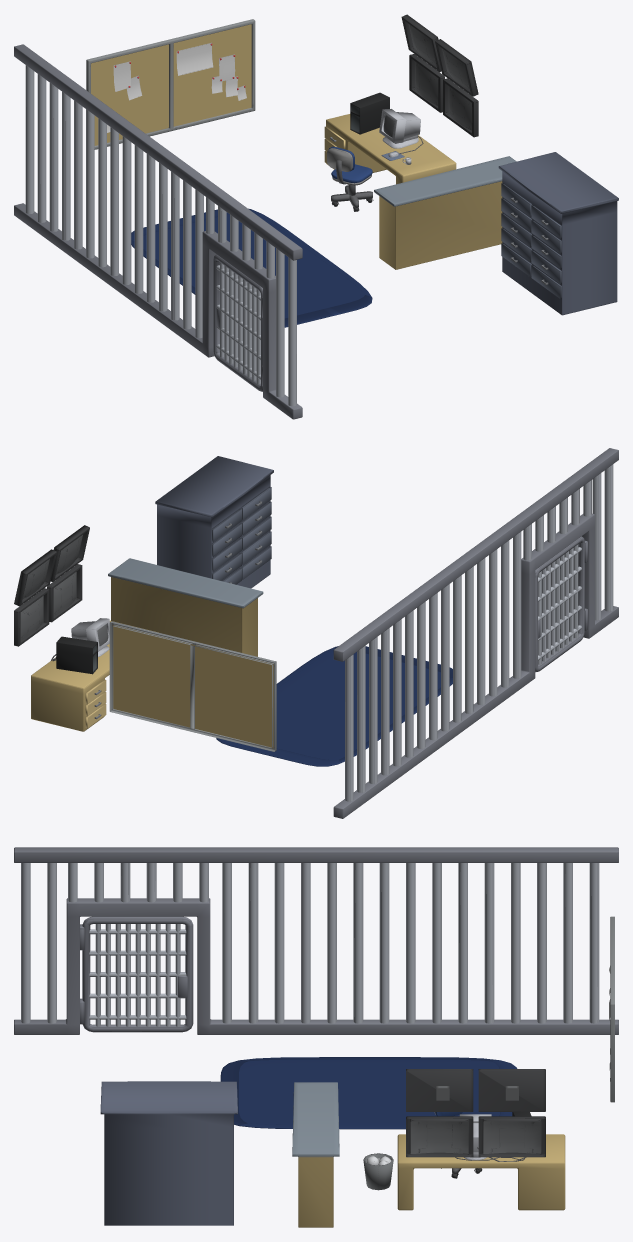
File: security_room.fbx
3 views of the same model, one above another, from view 1: azimuth 30°, elevation 25°; view 2: azimuth 150°, elevation 25°; view 3: azimuth 270°, elevation 25° (orthographic). The views are drawn at different scales.
Visible parts, largest first — view 1: grades1, arquivos, cela_base, quadro, bancada, tapete, monitores parede, porta_prisao, mesa, grades2, papeis, grades3 (+3 smaller); view 2: grades1, quadro, cela_base, arquivos, bancada, tapete, porta_prisao, monitores parede, mesa, grades2, grades3, cpu (+2 smaller); view 3: grades1, cela_base, arquivos, tapete, monitores parede, porta_prisao, bancada, mesa, grades2, grades3, lixeira, quadro.
Boxes of the visible parts, bbox=[...] form: grades1: bbox=[25, 65, 203, 338]; arquivos: bbox=[498, 152, 618, 315]; cela_base: bbox=[14, 44, 302, 419]; quadro: bbox=[86, 19, 255, 149]; bancada: bbox=[374, 156, 516, 269]; tapete: bbox=[131, 208, 372, 327]; monitores parede: bbox=[401, 14, 478, 137]; porta_prisao: bbox=[213, 254, 262, 391]; mesa: bbox=[326, 114, 456, 184]; grades2: bbox=[276, 248, 296, 406]; papeis: bbox=[107, 42, 246, 132]; grades3: bbox=[206, 197, 274, 278]; grades1: bbox=[345, 532, 521, 801]; quadro: bbox=[109, 621, 276, 751]; cela_base: bbox=[333, 448, 618, 818]; arquivos: bbox=[155, 456, 273, 588]; bancada: bbox=[108, 558, 263, 656]; tapete: bbox=[216, 646, 452, 766]; porta_prisao: bbox=[535, 536, 584, 672]; monitores parede: bbox=[14, 525, 89, 646]; mesa: bbox=[31, 620, 158, 731]; grades2: bbox=[592, 464, 613, 620]; grades3: bbox=[523, 480, 591, 560]; cpu: bbox=[56, 636, 97, 674]; grades1: bbox=[222, 863, 599, 1023]; cela_base: bbox=[14, 847, 618, 1034]; arquivos: bbox=[100, 1081, 237, 1225]; tapete: bbox=[220, 1057, 517, 1129]; monitores parede: bbox=[406, 1069, 545, 1157]; porta_prisao: bbox=[82, 916, 193, 1032]; bancada: bbox=[292, 1082, 339, 1227]; mesa: bbox=[397, 1134, 565, 1210]; grades2: bbox=[21, 863, 56, 1023]; grades3: bbox=[68, 863, 208, 902]; lixeira: bbox=[363, 1153, 393, 1190]; quadro: bbox=[610, 916, 614, 1102].
Size of the model in its own units: 1200 by 409 by 910.
Materials: 2 (2 with a texture image).
